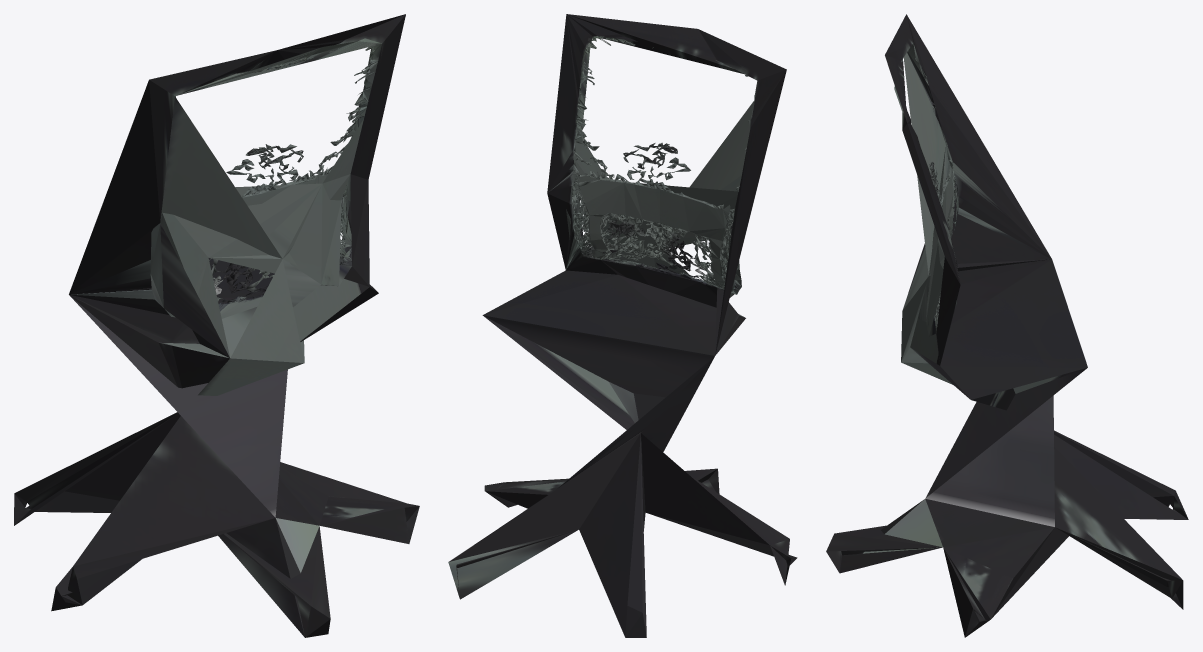
Rendered from office_chair.glb.
3 renders of one model, left to right at view 1: azimuth 30°, elevation 25°; view 2: azimuth 150°, elevation 25°; view 3: azimuth 270°, elevation 25°, orthographic. The views are drawn at different scales.
Parts seen in each view (by area): view 1: office_chair; view 2: office_chair; view 3: office_chair.
Part boxes in pixels (x1,y1,x2,y2): office_chair: (14,14,419,637); office_chair: (448,14,797,637); office_chair: (826,14,1188,637).
Size of the model in its own units: 0.6634 by 1 by 0.6482.
1 material, 1 textured.
